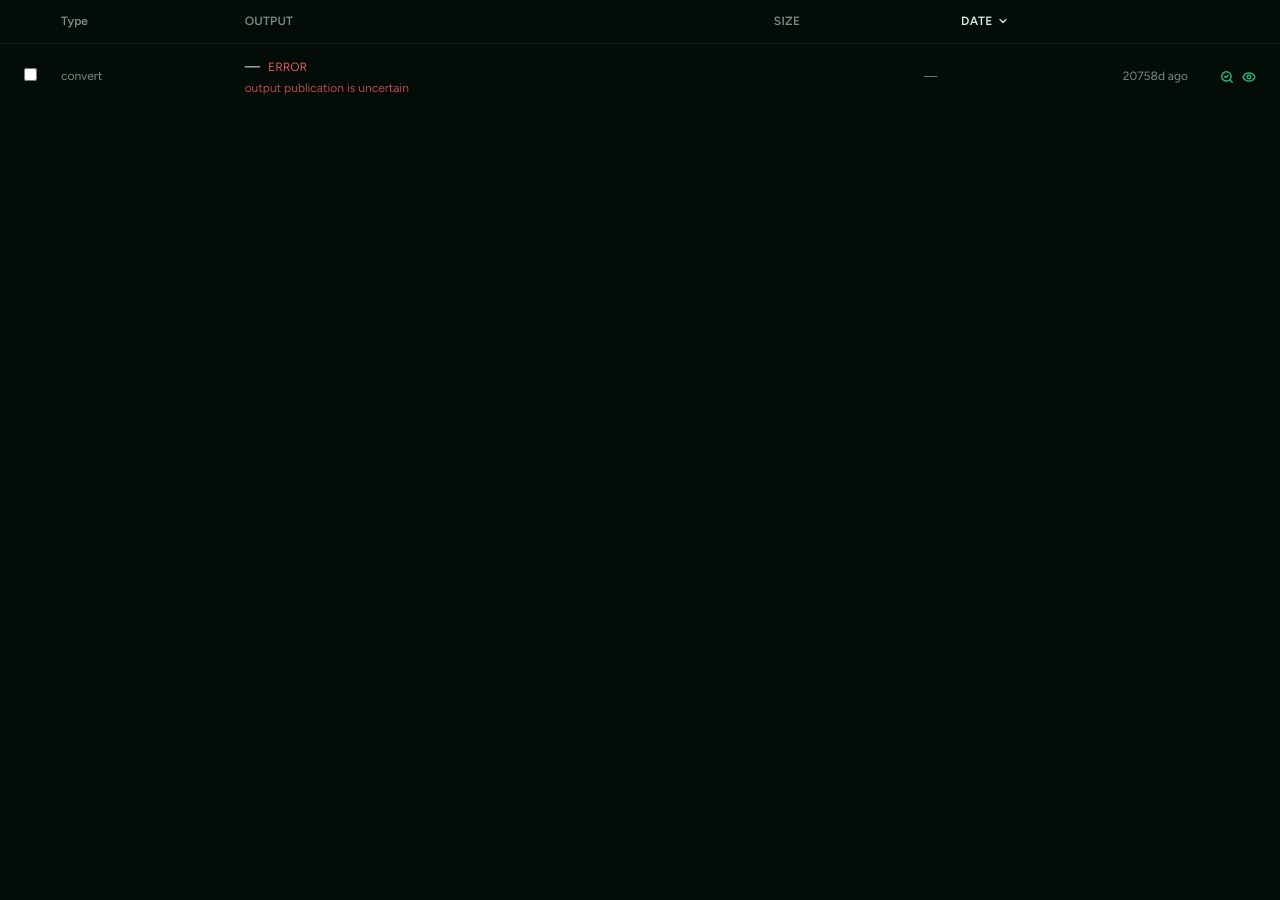
HistoryList verified publication review › assesses on click and requires confirmation with point-in-time wording
This screenshot has width=1280, height=900.
Step 1. Click the button named "review uncertain publication" → (1227, 77), box [1220, 70, 1234, 84]
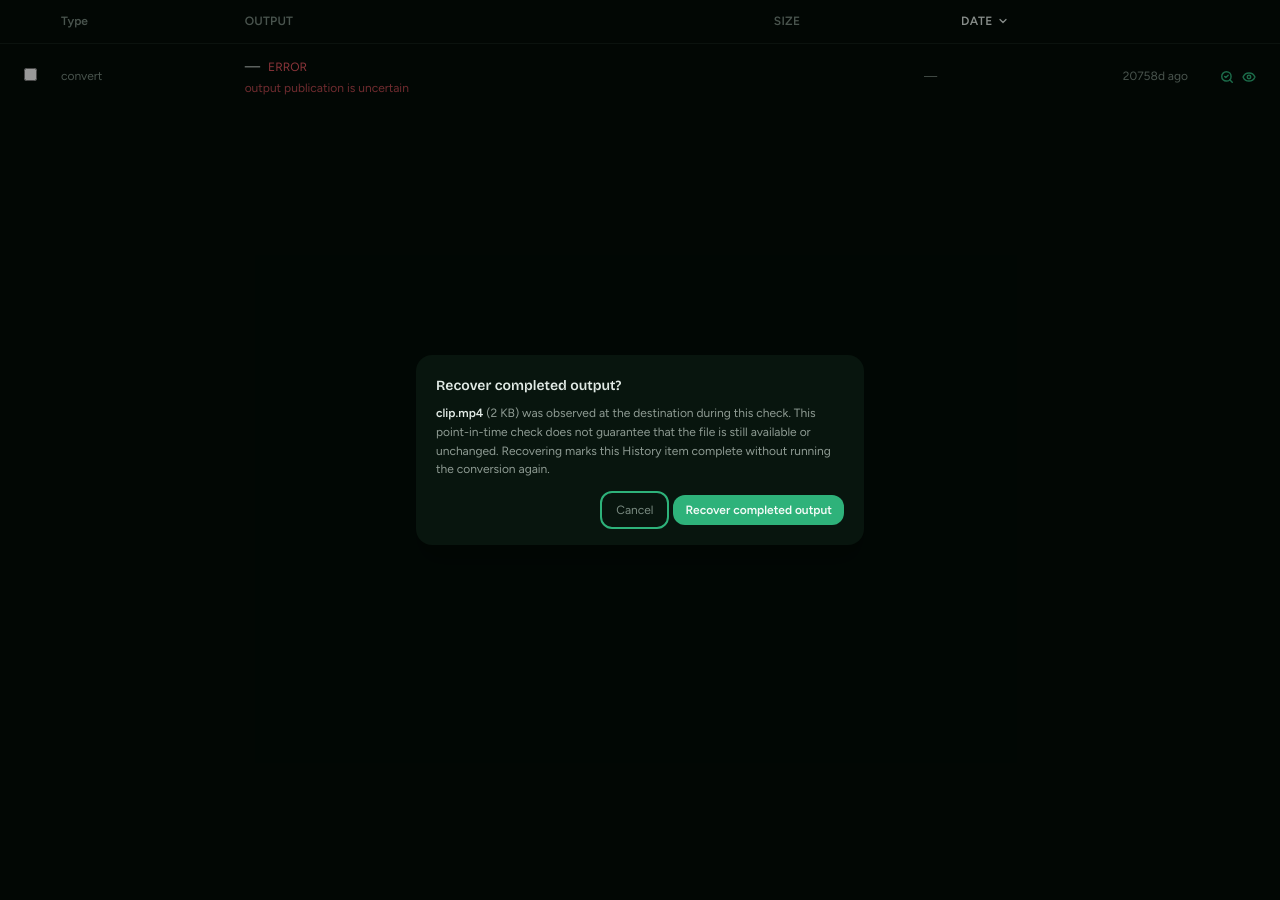
Now the dialog "Recover completed output" shows "observed at the destination during this check", box [436, 406, 831, 476]
Now the dialog "Recover completed output" shows "does not guarantee", box [436, 406, 831, 476]
Now the text "clip.mp4" is shown, box [436, 406, 483, 420]
